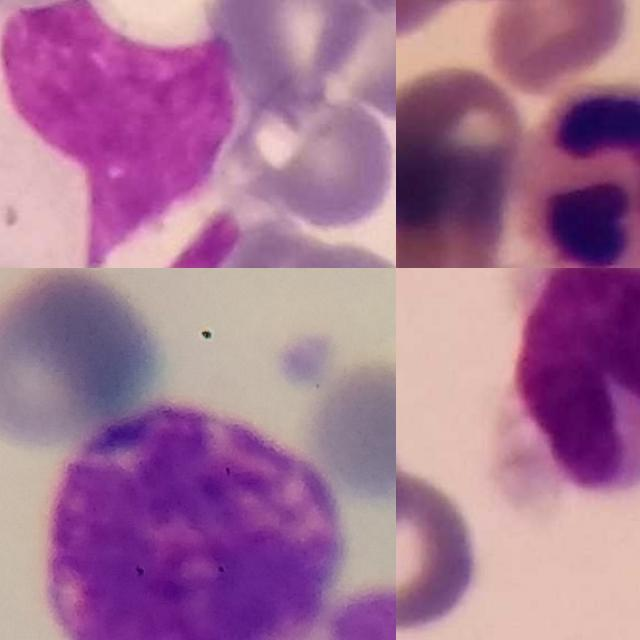Basophil: (44, 400, 344, 640)
Monocyte: (0, 0, 252, 268), (501, 268, 640, 512)
Neutrophil: (515, 83, 640, 268)
